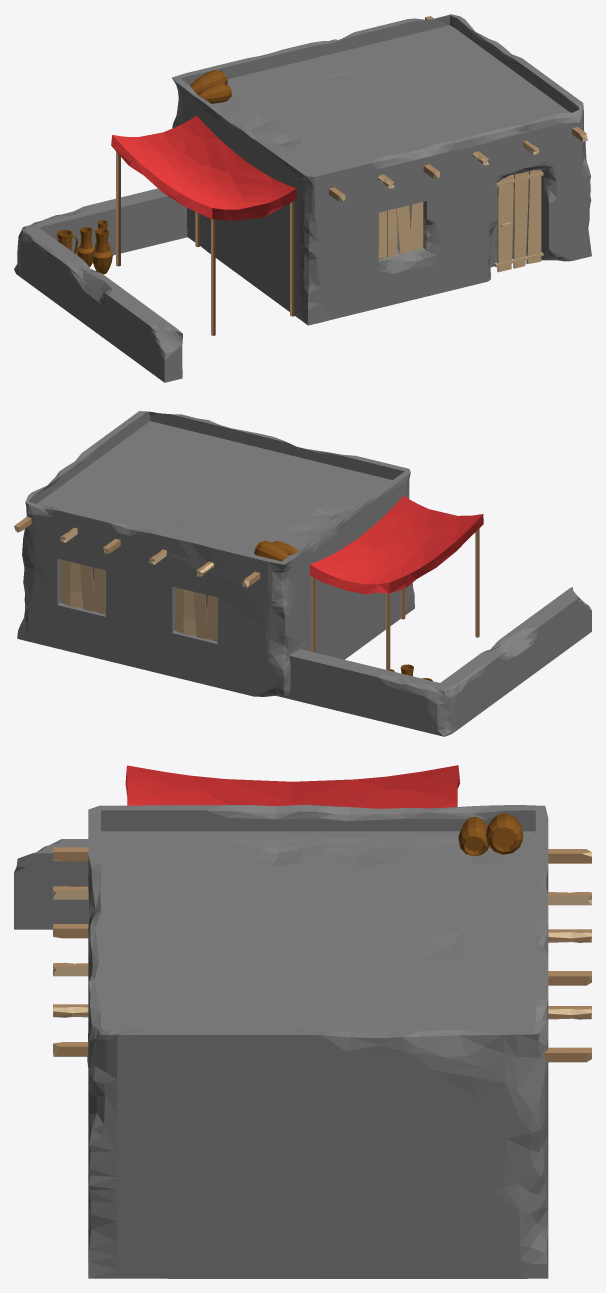
The model's file is SM_house_egypt_04.fbx.
3 renders of one model, top to bottom at view 1: azimuth 30°, elevation 25°; view 2: azimuth 150°, elevation 25°; view 3: azimuth 270°, elevation 25°, orthographic. The views are drawn at different scales.
Visible parts, largest first — view 1: Object166; view 2: Object166; view 3: Object166.
Part boxes in pixels (box(x1,y1,x2,y2)): Object166: box(14, 14, 591, 382); Object166: box(14, 411, 591, 736); Object166: box(14, 765, 591, 1278).
Size of the model in its own units: 409 by 274 by 135.
